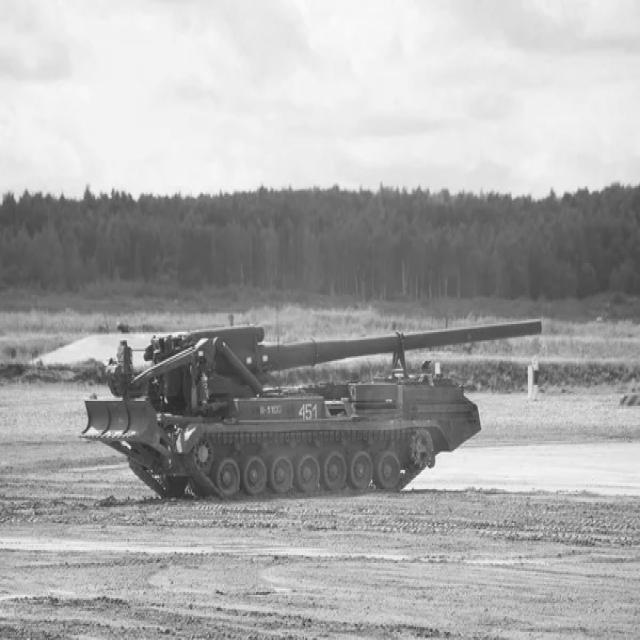Tank: (82, 292, 548, 508)
